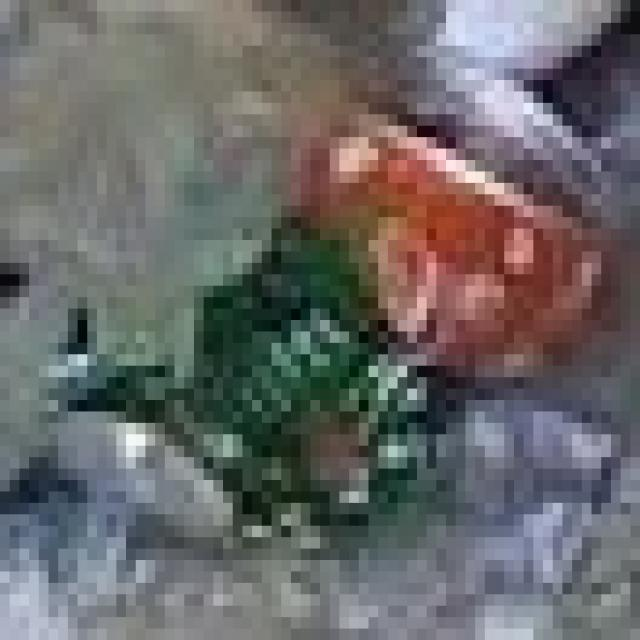can: (23, 0, 640, 587)
